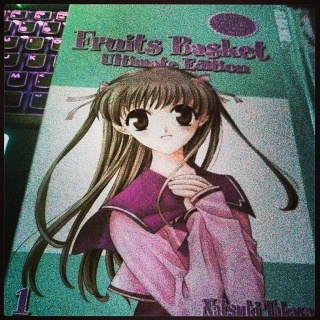without_mask: (8, 67, 300, 310)
